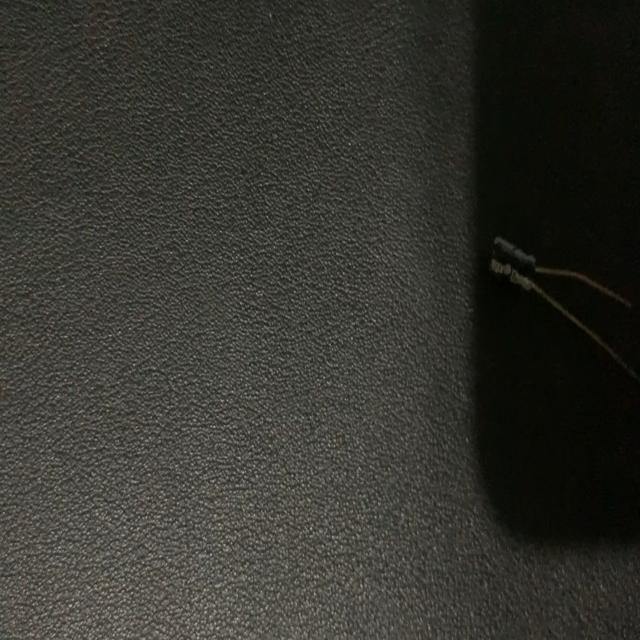capacitor: (490, 232, 640, 390)
